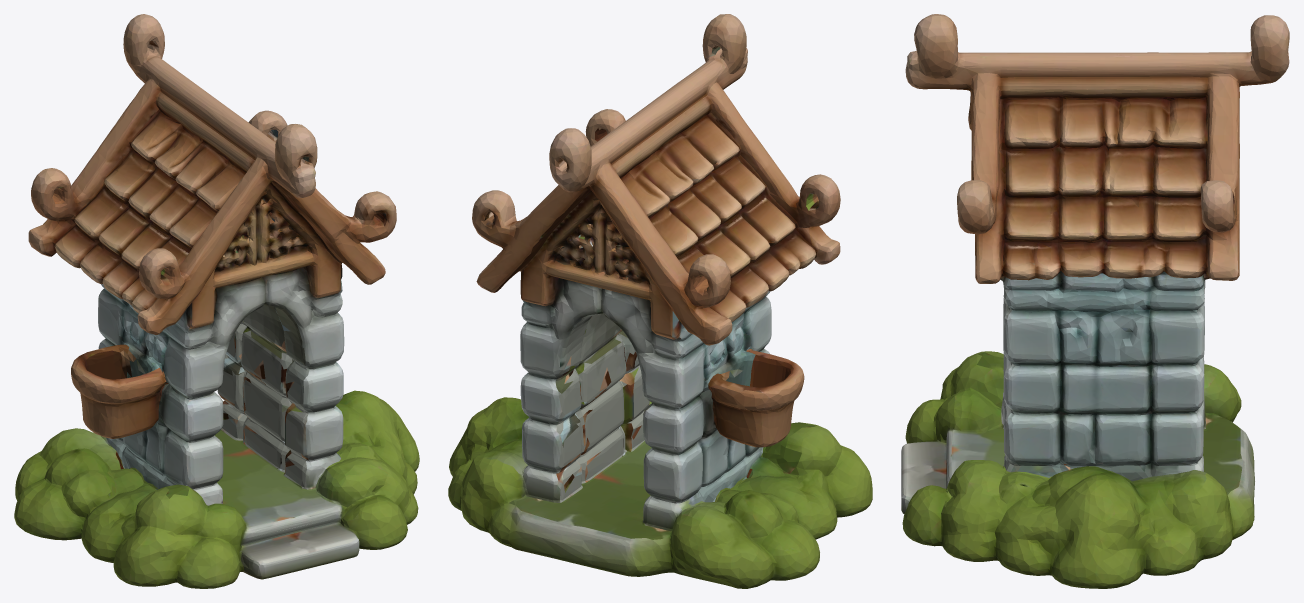
File: village_wishing_well.glb
3 views of the same model, side by side, from view 1: azimuth 30°, elevation 25°; view 2: azimuth 150°, elevation 25°; view 3: azimuth 270°, elevation 25° (orthographic). The views are drawn at different scales.
Parts seen in each view (by area): view 1: tmpkz7lf854.ply; view 2: tmpkz7lf854.ply; view 3: tmpkz7lf854.ply.
Boxes of the visible parts, bbox=[...] form: tmpkz7lf854.ply: bbox=[14, 14, 419, 588]; tmpkz7lf854.ply: bbox=[448, 14, 872, 588]; tmpkz7lf854.ply: bbox=[901, 14, 1289, 588].
Size of the model in its own units: 1.8 by 1.99 by 1.48.
1 material, 1 textured.
